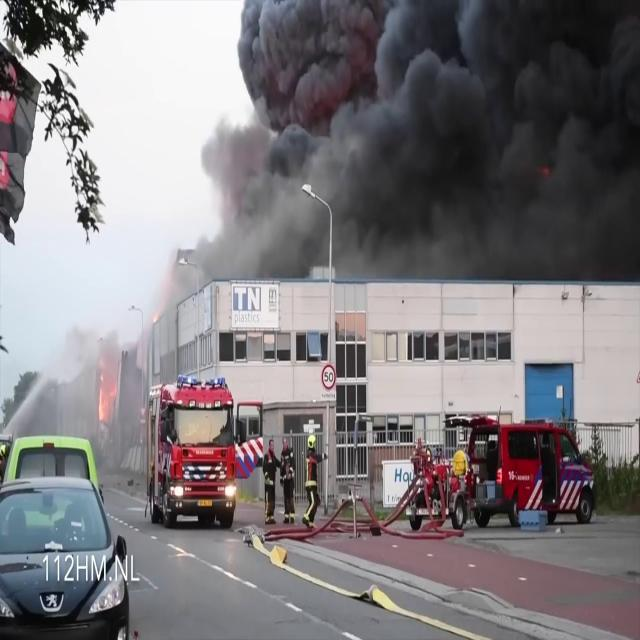Fire: (88, 352, 117, 441)
Smoke: (183, 0, 640, 291)
